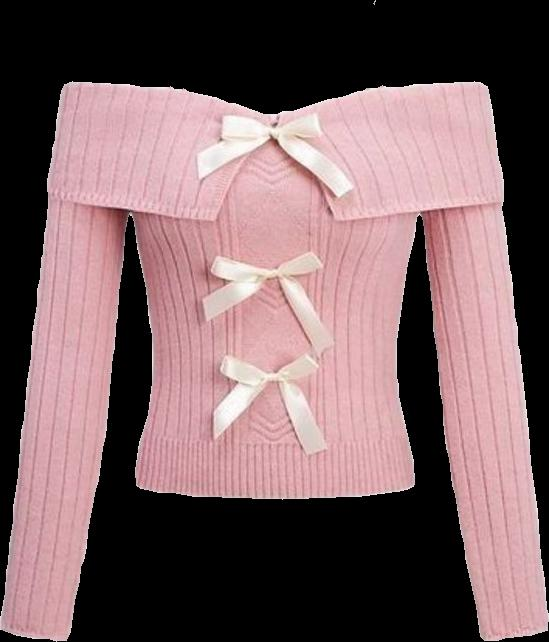Bodice: (47, 82, 503, 498)
Neckline: (62, 79, 484, 126)
Sleeve: (0, 199, 128, 640), (421, 204, 548, 640)
Sleeveline: (45, 194, 130, 218), (420, 196, 505, 219)
Waistline: (46, 124, 504, 226), (132, 480, 415, 499)
